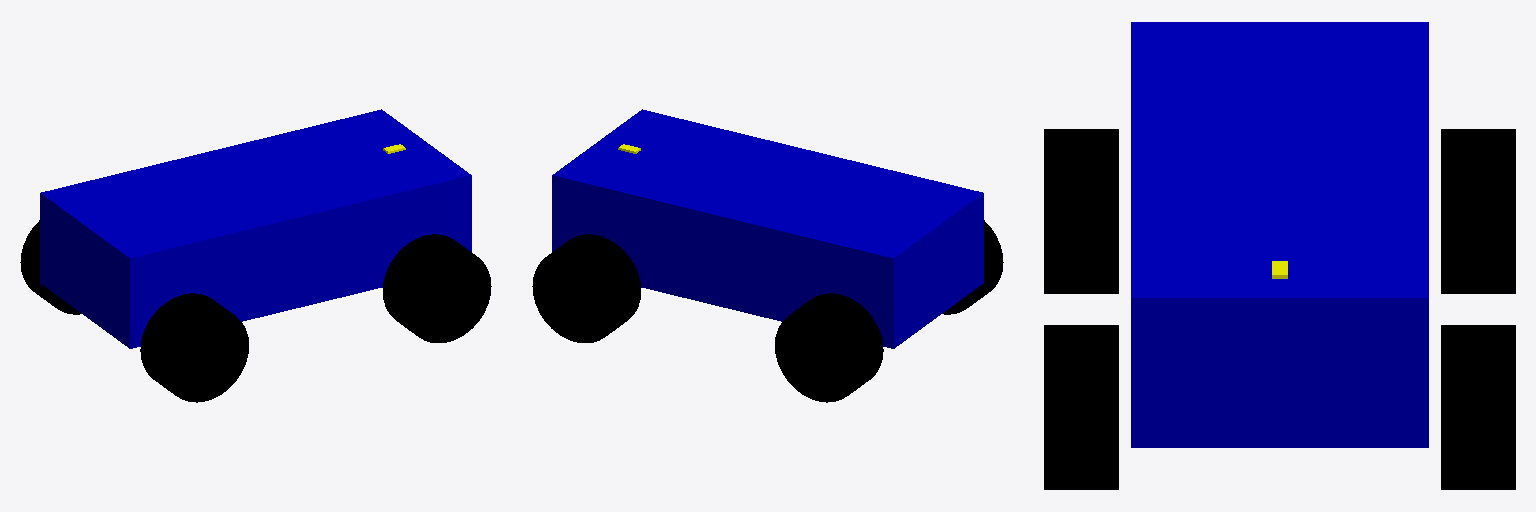
robot.urdf — robucar:
<?xml version="1.0"?>
<robot name="robucar">
  <link name="base_footprint" />

  <link name="base_link">
    <visual>
      <geometry>
        <box size=".395 .18 .1"/>
      </geometry>
      <material name="red">
        <color rgba="0 0 .8 .3"/>
      </material>
    </visual>
  </link>

  <joint name="base_link_joint" type="fixed">
    <parent link="base_footprint"/>
    <child link="base_link"/>
    <origin xyz="0 0 .1"/>
  </joint>

  <link name="rear_right_wheel">
    <visual>
      <geometry>
        <cylinder length=".045" radius=".05"/>
      </geometry>
      <material name="black">
        <color rgba="0 0 0 .7"/>
      </material>
      <origin xyz="0 -.02 0" rpy="1.57075 0 0"/>
    </visual>
  </link>

  <joint name="rear_right_wheel_joint" type="continuous">
    <axis xyz="0 1 0"/>
    <parent link="base_link"/>
    <child link="rear_right_wheel"/>
    <origin xyz="-.14 -.10 -.05"/>
  </joint>

  <link name="rear_left_wheel">
    <visual>
      <geometry>
        <cylinder length=".045" radius=".05"/>
      </geometry>
      <material name="black"/>
      <origin xyz="0 .02 0" rpy="1.57075 0 0"/>
    </visual>
  </link>

  <joint name="rear_left_wheel_joint" type="continuous">
    <axis xyz="0 1 0"/>
    <parent link="base_link"/>
    <child link="rear_left_wheel"/>
    <origin xyz="-.14 0.1 -.05"/>
  </joint>

  <link name="front_right_steering"/>

  <joint name="front_right_steering_joint" type="revolute">
    <limit lower="-1.57075" upper="1.57075" effort="-1" velocity="-1"/>
    <axis xyz="0 0 1"/>
    <parent link="base_link"/>
    <child link="front_right_steering"/>
    <origin xyz=".14 -0.1 -.05"/>
  </joint>

  <link name="front_right_wheel">
    <visual>
      <geometry>
        <cylinder length=".045" radius=".05"/>
      </geometry>
      <material name="black"/>
      <origin xyz="0 -.02 0" rpy="1.57075 0 0"/>
    </visual>
  </link>

  <joint name="front_right_wheel_joint" type="continuous">
    <axis xyz="0 1 0"/>
    <parent link="front_right_steering"/>
    <child link="front_right_wheel"/>
  </joint>

  <link name="front_left_steering"/>
 
  <joint name="front_left_steering_joint" type="revolute">
    <limit lower="-1.57075" upper="1.57075" effort="-1" velocity="-1"/>
    <axis xyz="0 0 1"/>
    <parent link="base_link"/>
    <child link="front_left_steering"/>
    <origin xyz=".14 .1 -.05"/>
  </joint>

  <link name="front_left_wheel">
    <visual>
      <geometry>
        <cylinder length=".045" radius=".05"/>
      </geometry>
      <material name="black"/>
      <origin xyz="0 .02 0" rpy="1.57075 0 0"/>
    </visual>
  </link>

  <joint name="front_left_wheel_joint" type="continuous">
    <axis xyz="0 1 0"/>
    <parent link="front_left_steering"/>
    <child link="front_left_wheel"/>
  </joint>

  <link name="steering_servo">
    <visual>
      <geometry>
        <box size=".04 .02 .01"/>
      </geometry>
      <material name="green">
        <color rgba="0 110 0 .5"/>
      </material>
    </visual>
  </link>

  <joint name="steering_servo_joint" type="fixed">
    <parent link="base_link"/>
    <child link="steering_servo"/>
    <origin xyz=".08 0 -.04"/>
  </joint>

  <transmission name="front_left_steering_trans">
    <type>transmission_interface/SimpleTransmission</type>
    <joint name="front_left_steering_joint">
      <hardwareInterface>hardware_interface/PositionJointInterface</hardwareInterface>
    </joint>
    <actuator name="steering_servo">
      <mechanicalReduction>-2.35</mechanicalReduction>
    </actuator>
  </transmission>

  <transmission name="front_right_steering_trans">
    <type>transmission_interface/SimpleTransmission</type>
    <joint name="front_right_steering_joint">
      <hardwareInterface>hardware_interface/PositionJointInterface</hardwareInterface>
    </joint>
    <actuator name="steering_servo">
      <mechanicalReduction>-2.35</mechanicalReduction>
    </actuator>
  </transmission>

  <transmission name="front_left_wheel_trans">
    <type>transmission_interface/SimpleTransmission</type>
    <joint name="front_left_wheel_joint">
      <hardwareInterface>hardware_interface/VelocityJointInterface</hardwareInterface>
    </joint>
    <actuator name="drive_motor">
      <mechanicalReduction>13.0</mechanicalReduction>
    </actuator>
  </transmission>

  <transmission name="front_right_wheel_trans">
    <type>transmission_interface/SimpleTransmission</type>
    <joint name="front_right_wheel_joint">
      <hardwareInterface>hardware_interface/VelocityJointInterface</hardwareInterface>
    </joint>
    <actuator name="drive_motor">
      <mechanicalReduction>13.0</mechanicalReduction>
    </actuator>
  </transmission>

  <transmission name="rear_left_wheel_trans">
    <type>transmission_interface/SimpleTransmission</type>
    <joint name="rear_left_wheel_joint">
      <hardwareInterface>hardware_interface/VelocityJointInterface</hardwareInterface>
    </joint>
    <actuator name="drive_motor">
      <mechanicalReduction>13.0</mechanicalReduction>
    </actuator>
  </transmission>

  <transmission name="rear_right_wheel_trans">
    <type>transmission_interface/SimpleTransmission</type>
    <joint name="rear_right_wheel_joint">
      <hardwareInterface>hardware_interface/VelocityJointInterface</hardwareInterface>
    </joint>
    <actuator name="drive_motor">
      <mechanicalReduction>13.0</mechanicalReduction>
    </actuator>
  </transmission>

  <link name="imu">
    <visual>
      <geometry>
        <box size=".02 .01 .005"/>
      </geometry>
      <material name="orange">
        <color rgba="255 128 0 .7"/>
      </material>
    </visual>
  </link>

  <joint name="imu_joint" type="fixed">
    <parent link="base_link"/>
    <child link="imu"/>
    <origin xyz=".16 0 .05"/>
  </joint>
</robot>

--- Render facts (derived) ---
The picture shows the robot from 3 angles, left to right: view 1: azimuth 30°, elevation 25°; view 2: azimuth 150°, elevation 25°; view 3: azimuth 270°, elevation 25°; orthographic projection.
Robot: robucar — 10 links, 9 joints (2 revolute, 4 continuous, 3 fixed); root link base_footprint; default pose: every joint at zero.
Links seen in each view (by area): view 1: base_link, front_right_wheel, rear_right_wheel, rear_left_wheel; view 2: base_link, front_left_wheel, rear_left_wheel, rear_right_wheel; view 3: base_link, rear_right_wheel, rear_left_wheel, front_right_wheel, front_left_wheel.
Link boxes in pixels (x1=…): base_link: x1=40, y1=109, x2=471, y2=348; front_right_wheel: x1=383, y1=234, x2=491, y2=342; rear_right_wheel: x1=140, y1=293, x2=248, y2=402; rear_left_wheel: x1=20, y1=220, x2=80, y2=314; base_link: x1=552, y1=109, x2=983, y2=348; front_left_wheel: x1=532, y1=234, x2=640, y2=342; rear_left_wheel: x1=775, y1=293, x2=883, y2=402; rear_right_wheel: x1=943, y1=220, x2=1003, y2=314; base_link: x1=1131, y1=22, x2=1428, y2=447; rear_right_wheel: x1=1044, y1=129, x2=1118, y2=293; rear_left_wheel: x1=1441, y1=129, x2=1515, y2=293; front_right_wheel: x1=1044, y1=325, x2=1118, y2=489; front_left_wheel: x1=1441, y1=325, x2=1515, y2=489.
Bounding box of the posed robot: 0.395 × 0.285 × 0.1525 m (x, y, z).
Geometry: primitives only (box / cylinder / sphere), no mesh files.